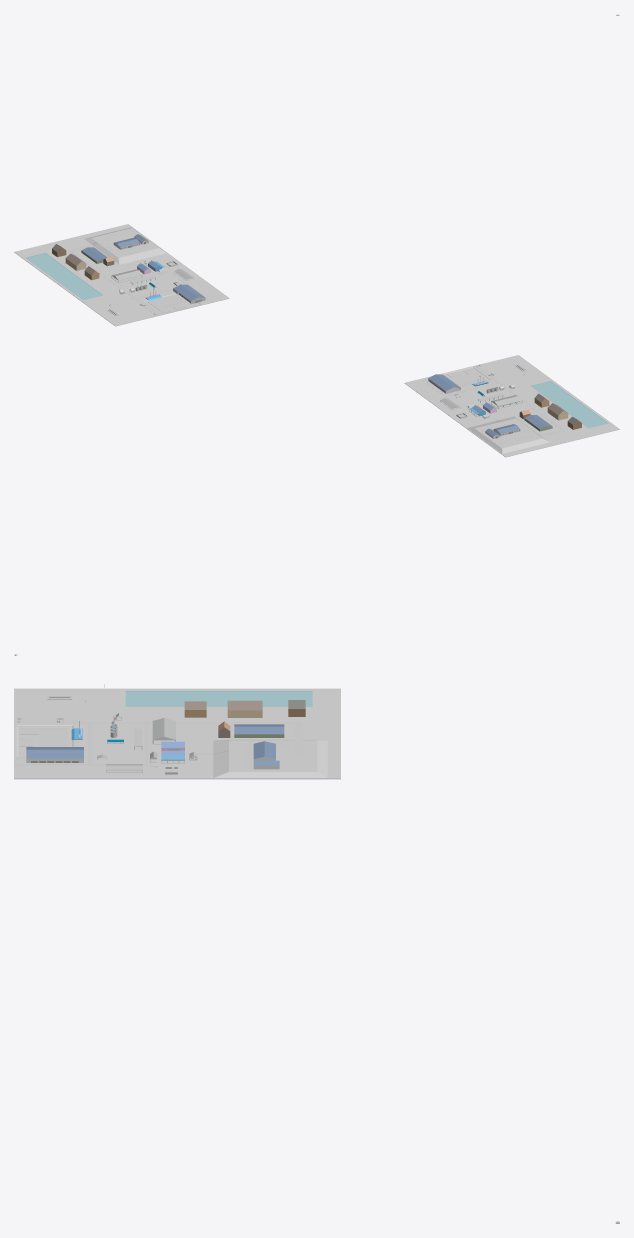
The model's file is school-map.glb.
3 views of the same model, one above another, from view 1: azimuth 30°, elevation 25°; view 2: azimuth 210°, elevation 25°; view 3: azimuth 270°, elevation 25° (orthographic). The views are drawn at different scales.
Parts seen in each view (by area): view 1: Node878, Node890, Node884, Node883, Node865, Node791; view 2: Node878, Node890, Node884, Node883, Node865, Node791; view 3: Node878, Node890, Node884, Node883, Node865, Node791.
Boxes of the visible parts, x1,y1,x2,y2 form: Node878: (14,224,228,325); Node890: (15,225,228,325); Node884: (26,253,102,299); Node883: (26,253,102,299); Node865: (91,228,158,257); Node791: (68,244,212,315); Node878: (405,355,619,456); Node890: (405,356,618,456); Node884: (531,381,607,427); Node883: (531,381,607,427); Node865: (475,418,542,448); Node791: (421,365,565,436); Node878: (14,688,340,778); Node890: (14,690,340,778); Node884: (125,691,312,706); Node883: (126,691,312,706); Node865: (229,739,317,771); Node791: (14,721,302,768).
Size of the model in its own units: 110049 by 1422 by 51592.
